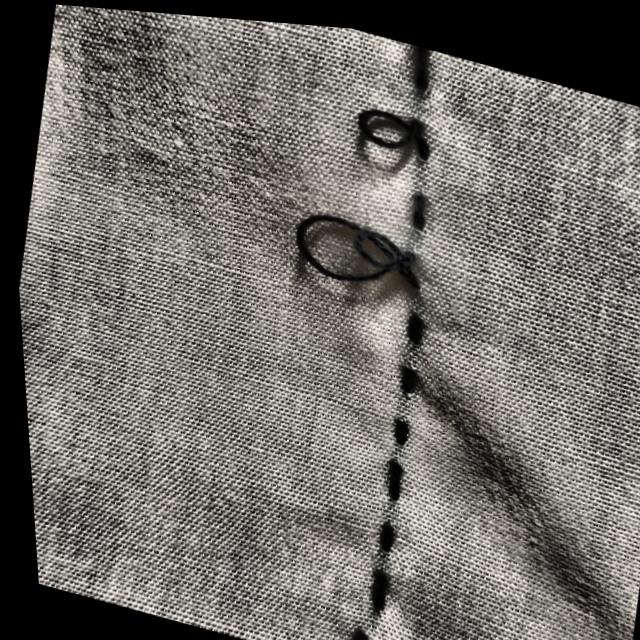Stitch: (176, 162, 489, 326), (250, 51, 472, 177)
